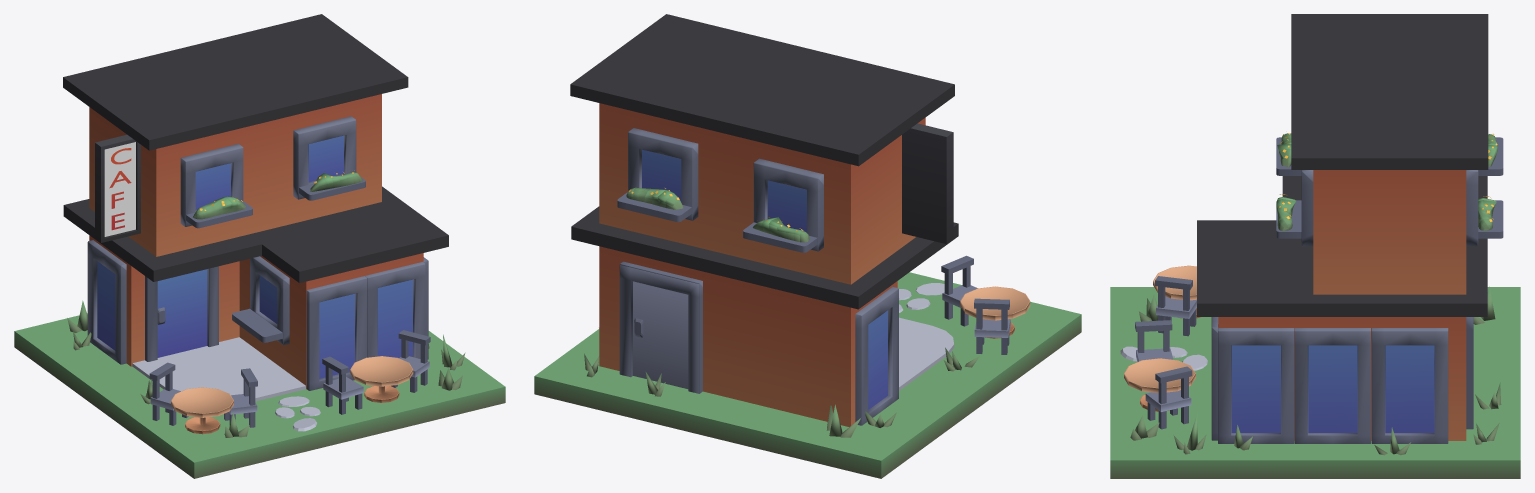
File: coffee_roastery.glb
3 renders of one model, left to right at view 1: azimuth 30°, elevation 25°; view 2: azimuth 150°, elevation 25°; view 3: azimuth 270°, elevation 25°, orthographic. The views are drawn at different scales.
Visible parts, largest first — view 1: coffee_roastery; view 2: coffee_roastery; view 3: coffee_roastery.
Boxes of the visible parts, box(x1,y1,x2,y2) form: coffee_roastery: box(14, 14, 505, 478); coffee_roastery: box(534, 14, 1081, 478); coffee_roastery: box(1110, 14, 1520, 478).
Bounding box in the file's own units: 1 × 0.8356 × 1.
1 material, 1 textured.
